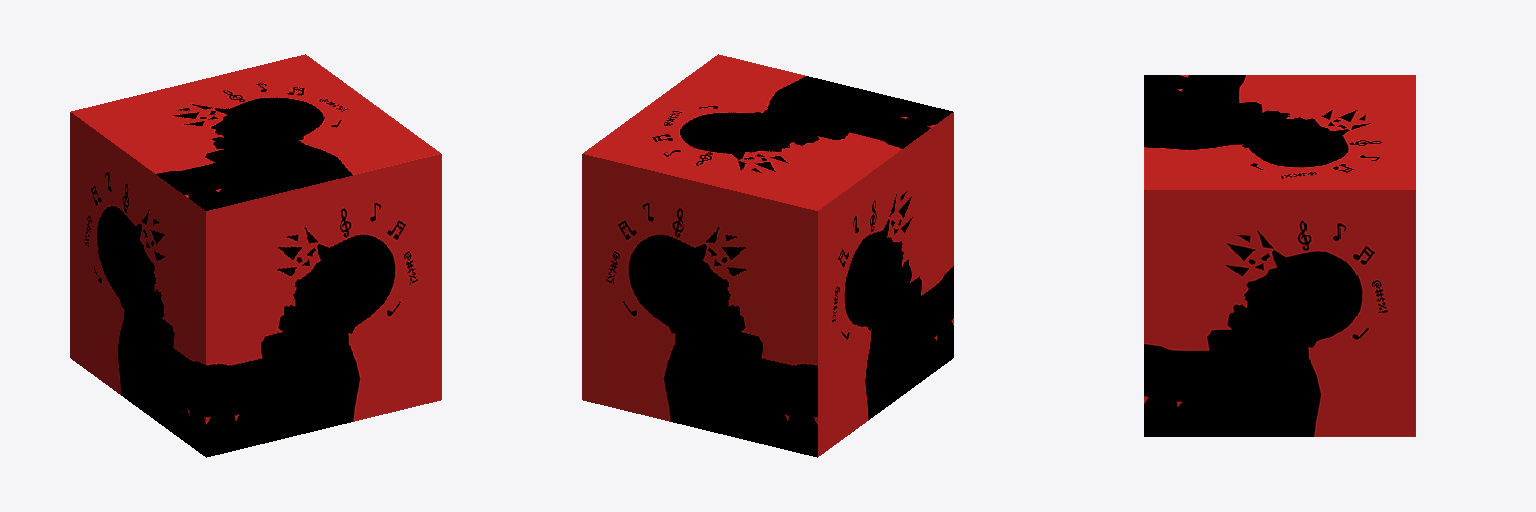
The picture shows the model from 3 angles: view 1: azimuth 30°, elevation 25°; view 2: azimuth 150°, elevation 25°; view 3: azimuth 270°, elevation 25°; orthographic projection.
Parts seen in each view (by area): view 1: Cube; view 2: Cube; view 3: Cube.
Boxes of the visible parts, x1=… form: Cube: x1=70, y1=54, x2=441, y2=457; Cube: x1=582, y1=54, x2=953, y2=457; Cube: x1=1144, y1=75, x2=1415, y2=436.
Bounding box in the file's own units: 2 × 2 × 2.
Materials: 1 (1 with a texture image).